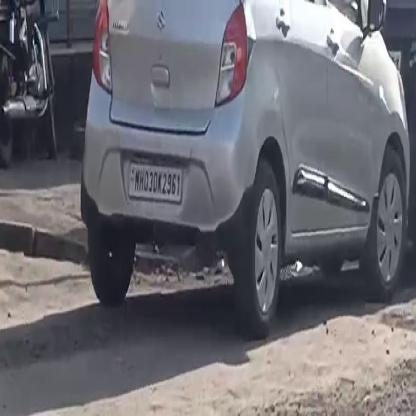license_plate: (128, 158, 182, 201)
